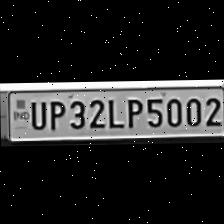0: (162, 93, 182, 125), (181, 94, 201, 125)
2: (86, 95, 106, 128), (202, 93, 222, 126)
3: (65, 96, 85, 128)
5: (142, 94, 162, 127)
L: (104, 94, 122, 128)
P: (44, 96, 64, 130), (121, 94, 141, 127)
U: (27, 98, 46, 129)
